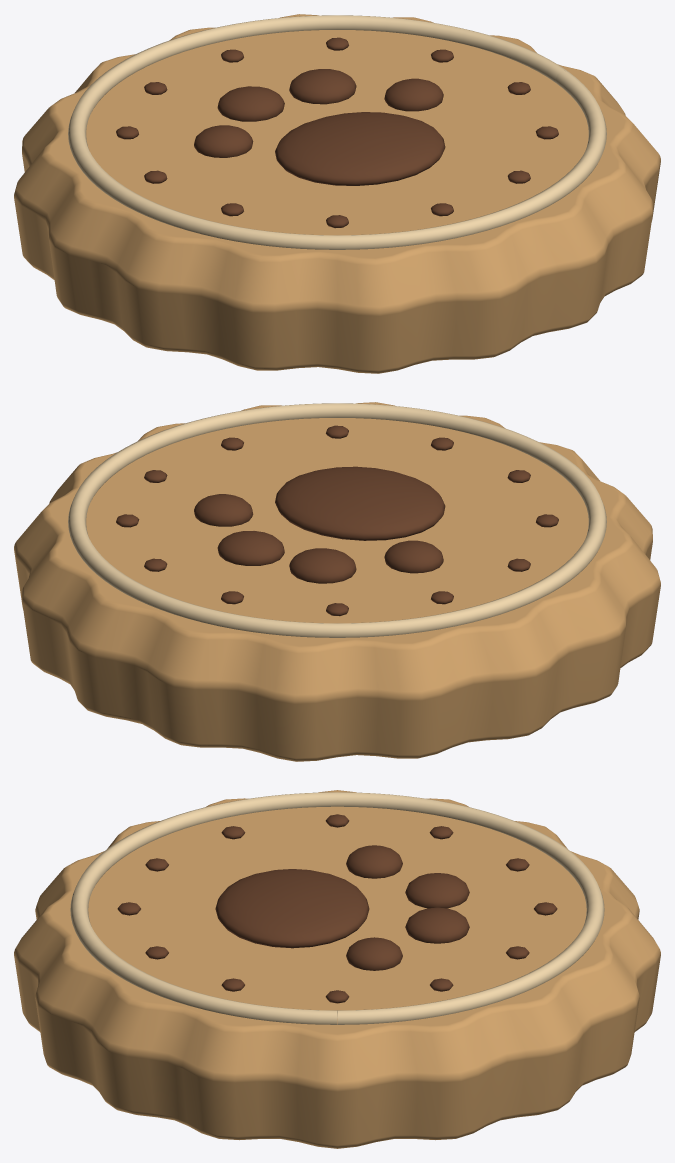
File: weapon_cookie_crafted.glb
The picture shows the model from 3 angles, top to bottom: view 1: azimuth 30°, elevation 25°; view 2: azimuth 150°, elevation 25°; view 3: azimuth 270°, elevation 25°; orthographic projection.
Parts seen in each view (by area): view 1: Golden baked biscuit, Cocoa baked recess, Warm linen stitching; view 2: Golden baked biscuit, Cocoa baked recess, Warm linen stitching; view 3: Golden baked biscuit, Cocoa baked recess, Warm linen stitching.
Part boxes in pixels (x1=…): Golden baked biscuit: x1=14, y1=14, x2=660, y2=373; Cocoa baked recess: x1=116, y1=37, x2=558, y2=228; Warm linen stitching: x1=68, y1=15, x2=606, y2=249; Golden baked biscuit: x1=14, y1=402, x2=660, y2=761; Cocoa baked recess: x1=116, y1=425, x2=558, y2=616; Warm linen stitching: x1=68, y1=403, x2=606, y2=637; Golden baked biscuit: x1=14, y1=790, x2=660, y2=1148; Cocoa baked recess: x1=117, y1=814, x2=557, y2=1003; Warm linen stitching: x1=70, y1=792, x2=604, y2=1024.
Bounding box in the file's own units: 0.6466 × 0.148 × 0.6466.
